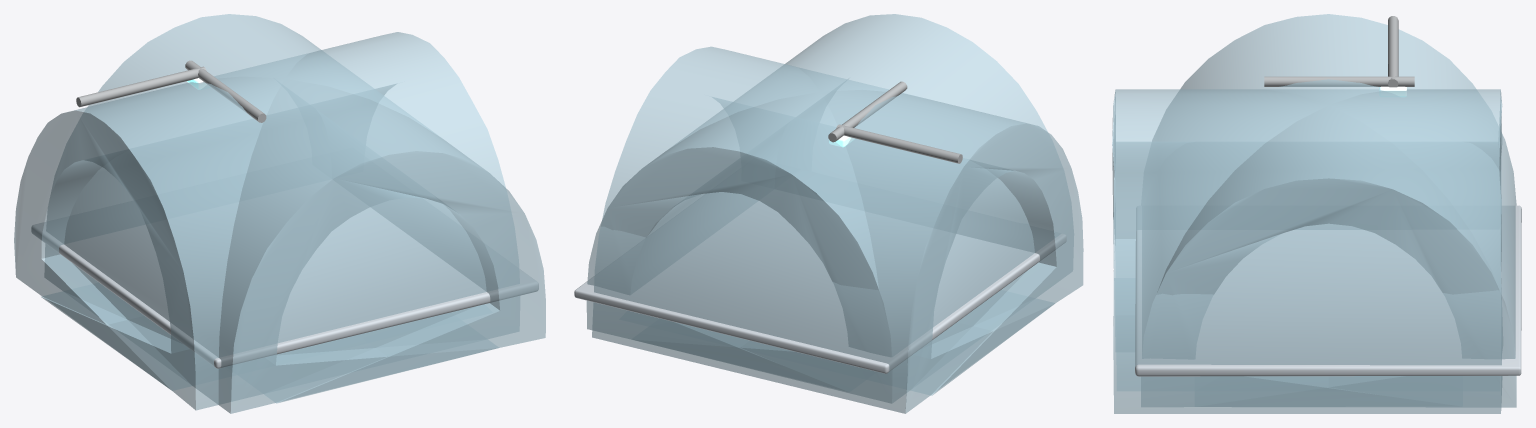
Rendered from arctic-station-fps-kit-ice-tunnel-bend-51b13ee8__28483.glb.
3 views of the same model, side by side, from view 1: azimuth 30°, elevation 25°; view 2: azimuth 150°, elevation 25°; view 3: azimuth 270°, elevation 25° (orthographic). The views are drawn at different scales.
Visible parts, largest first — view 1: ice-tunnel-bend; view 2: ice-tunnel-bend; view 3: ice-tunnel-bend.
Boxes of the visible parts, x1,y1,x2,y2 form: ice-tunnel-bend: [14, 14, 545, 413]; ice-tunnel-bend: [574, 14, 1083, 413]; ice-tunnel-bend: [1112, 14, 1521, 413].
Bounding box in the file's own units: 3.82 × 2.37 × 3.82.
